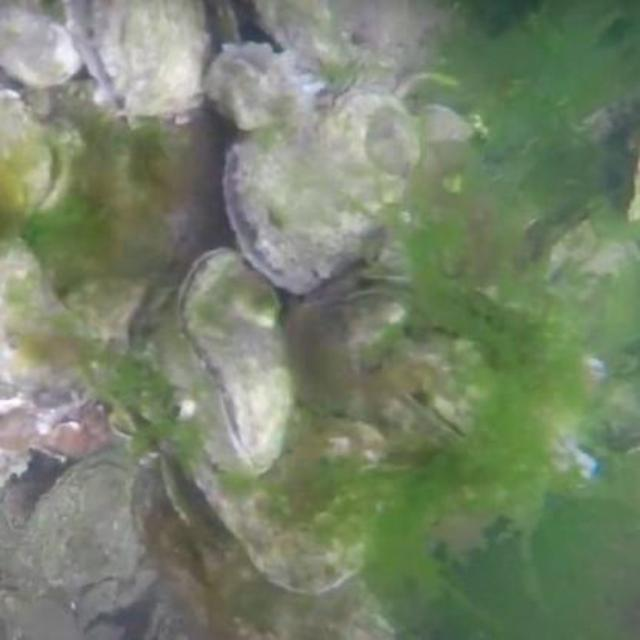Oyster-Closed: (143, 322, 381, 591), (224, 88, 425, 289), (185, 248, 292, 466), (10, 456, 158, 592), (57, 0, 208, 123), (0, 238, 96, 400), (0, 93, 70, 226), (0, 0, 94, 96), (545, 211, 640, 299)
Oyster-Open: (211, 39, 312, 130)
